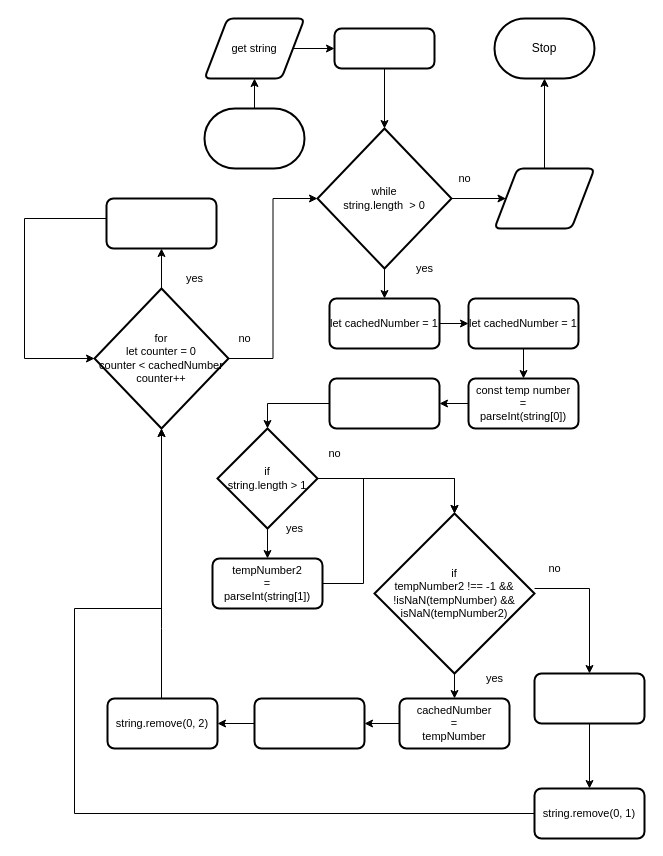
Image size: 663x856. Some labels were removed from this diagram. The centre of each missing label's shape, as x and y in pixels:
cachedLetter = string[1]: [309,723]
let tempNumber2 = -1: [384,403]
newString += cachedLetter: [161,223]
newString += string[0]: [589,698]
newString = "": [384,48]
return newString: [544,198]
Start: [254,138]
